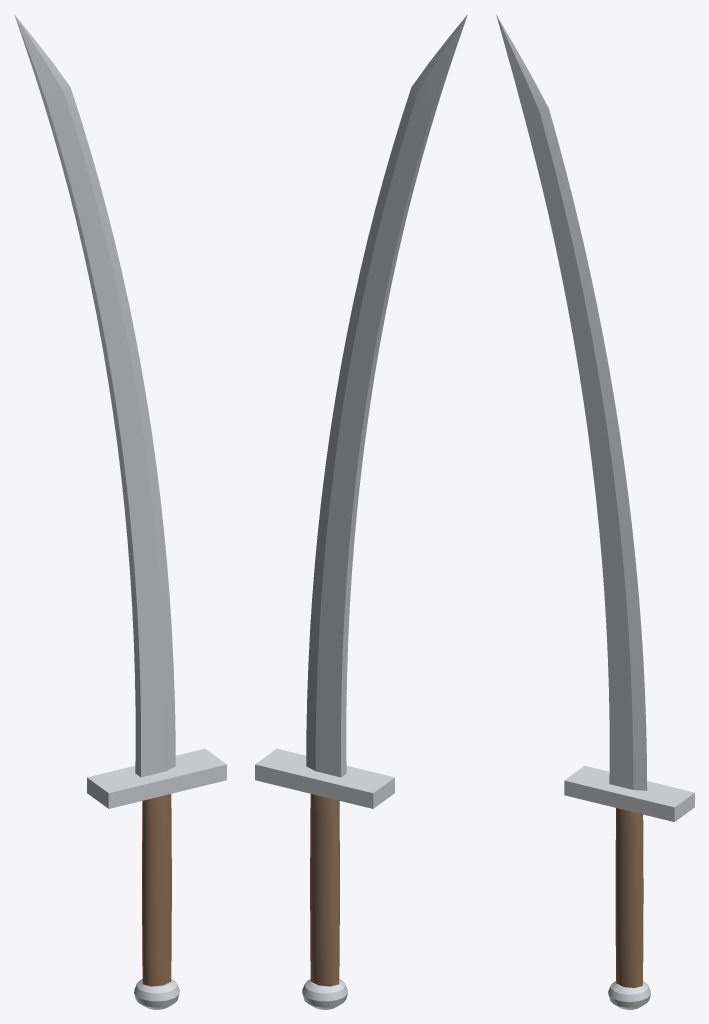
Rendered from asset.glb.
3 views of the same model, side by side, from view 1: azimuth 30°, elevation 25°; view 2: azimuth 150°, elevation 25°; view 3: azimuth 330°, elevation 25° (orthographic). The views are drawn at different scales.
Parts seen in each view (by area): view 1: blade, grip, guard, pommel; view 2: blade, grip, guard, pommel; view 3: blade, grip, guard, pommel.
Boxes of the visible parts, x1,y1,x2,y2 form: blade: [14, 14, 175, 777]; grip: [142, 794, 171, 986]; guard: [87, 748, 226, 808]; pommel: [134, 979, 179, 1009]; blade: [306, 14, 467, 777]; grip: [310, 794, 339, 986]; guard: [255, 748, 394, 808]; pommel: [302, 979, 347, 1009]; blade: [496, 15, 647, 790]; grip: [615, 808, 643, 987]; guard: [564, 765, 694, 821]; pommel: [608, 981, 650, 1009].
Bounding box in the file's own units: 0.1797 × 0.8745 × 0.0357.
